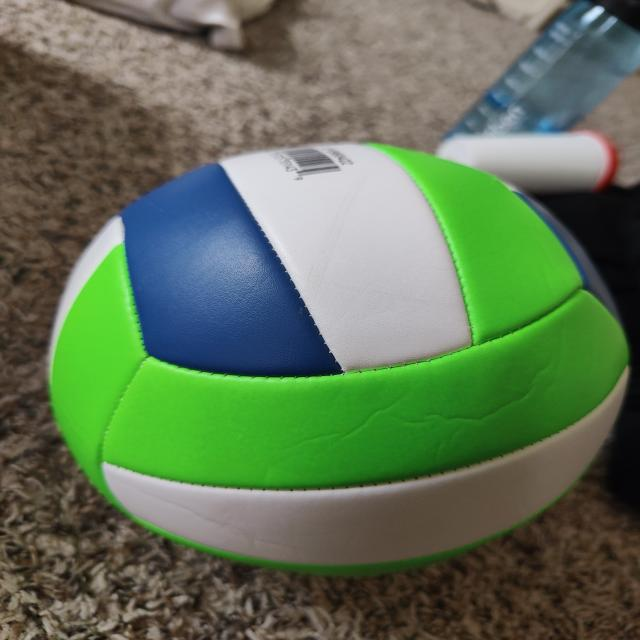ball: (49, 141, 629, 574)
